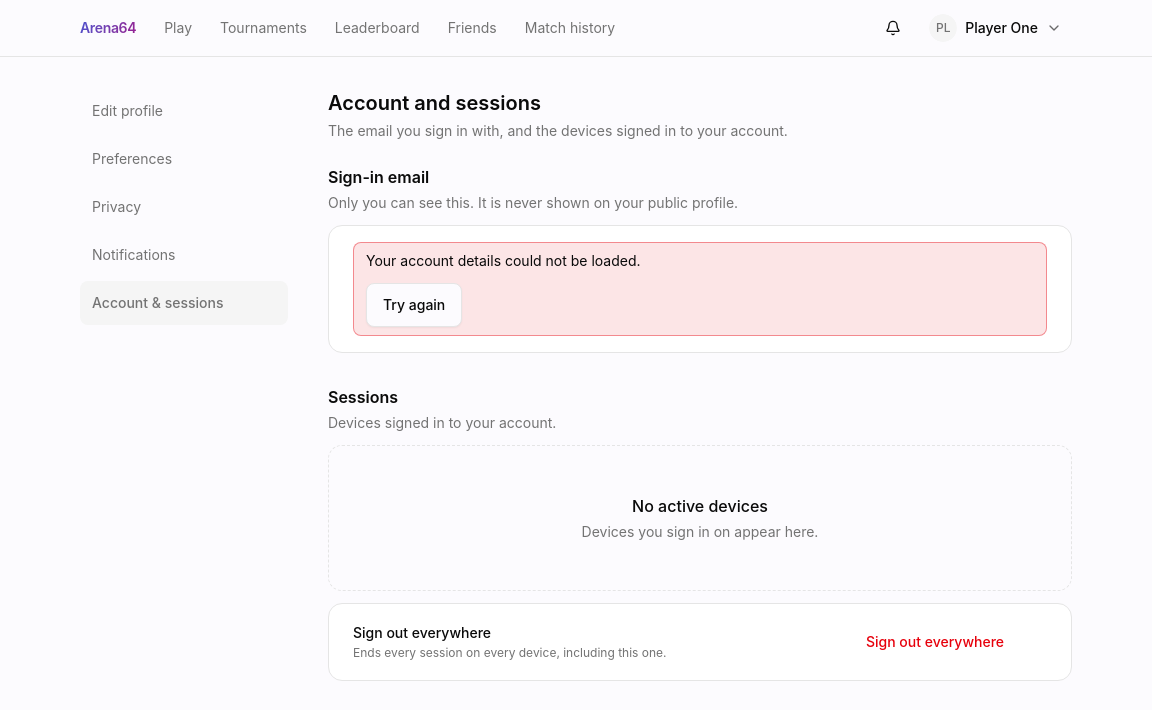
the sign-in address › offers a retry when the account cannot be read, and recovers
Expected: the text "Your account details could not be loaded." is shown, [366, 251, 640, 271]
Expected: the text "player.one@example.com" is not shown
Step 1. Click the button "Try again" → (414, 305), box [366, 283, 462, 327]
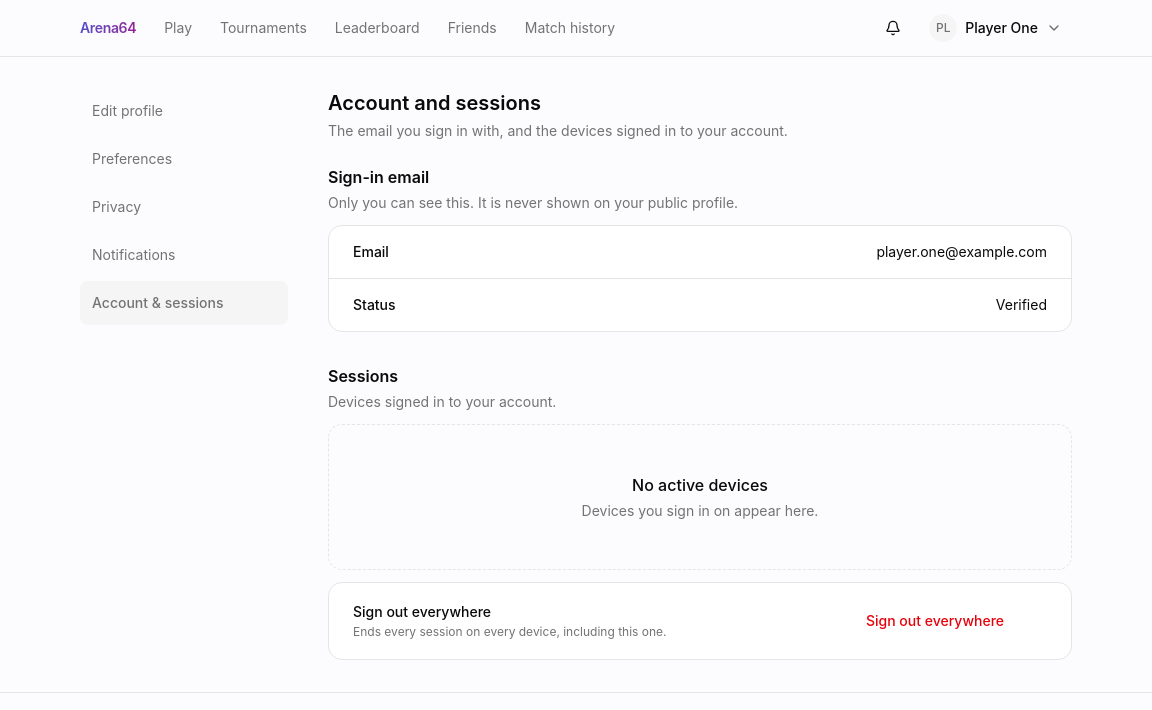
Expected: the text "player.one@example.com" is shown, [876, 243, 1047, 260]
